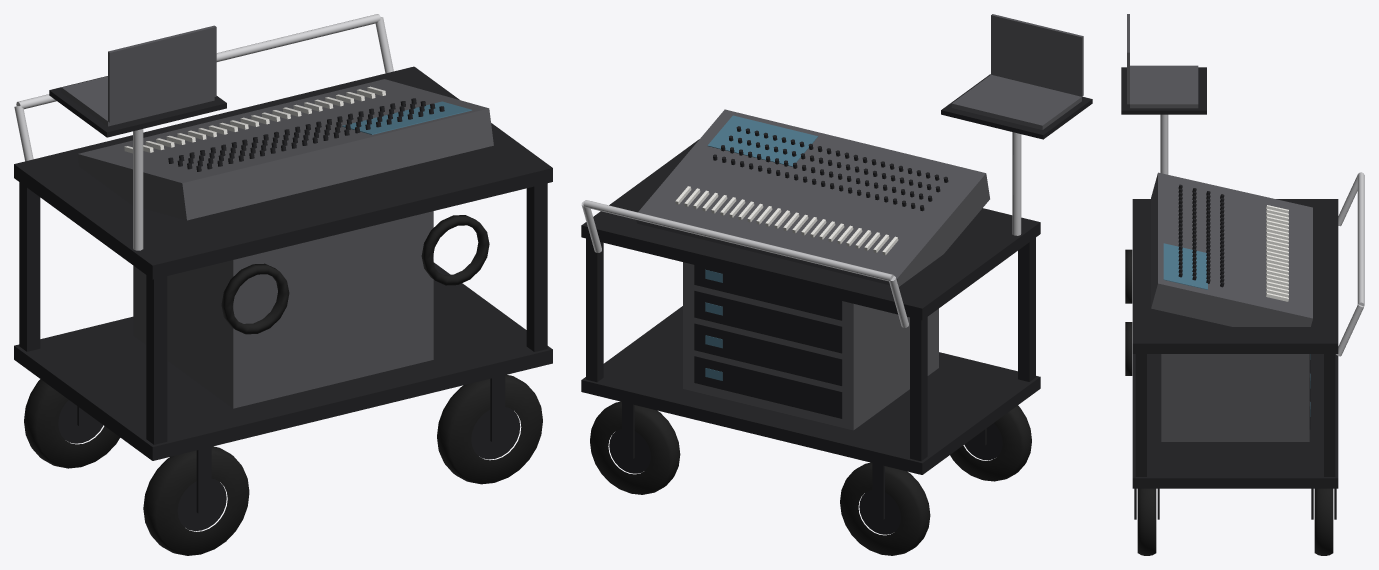
The model's file is mixer-cart.glb.
3 views of the same model, side by side, from view 1: azimuth 30°, elevation 25°; view 2: azimuth 150°, elevation 25°; view 3: azimuth 270°, elevation 25° (orthographic). The views are drawn at different scales.
Visible parts, largest first — view 1: frame, panel, rubber, metal, keys, screen; view 2: frame, panel, rubber, metal, screen, keys; view 3: panel, frame, rubber, metal, keys, screen.
Part boxes in pixels (left/top/right/bottom): frame: left=14, top=66, right=552, bottom=530; panel: left=61, top=25, right=493, bottom=408; rubber: left=24, top=215, right=542, bottom=555; metal: left=14, top=14, right=393, bottom=250; keys: left=124, top=86, right=385, bottom=153; screen: left=342, top=101, right=471, bottom=134; frame: left=581, top=74, right=1092, bottom=534; panel: left=636, top=14, right=1083, bottom=430; rubber: left=590, top=401, right=1031, bottom=555; metal: left=581, top=132, right=1021, bottom=327; screen: left=705, top=115, right=818, bottom=380; keys: left=675, top=186, right=898, bottom=255; panel: left=1127, top=14, right=1312, bottom=441; frame: left=1121, top=67, right=1338, bottom=519; rubber: left=1125, top=249, right=1333, bottom=555; metal: left=1160, top=114, right=1364, bottom=356; keys: left=1266, top=205, right=1288, bottom=301; screen: left=1163, top=243, right=1310, bottom=416.
Size of the model in its own units: 1.36 by 1.53 by 0.852.
